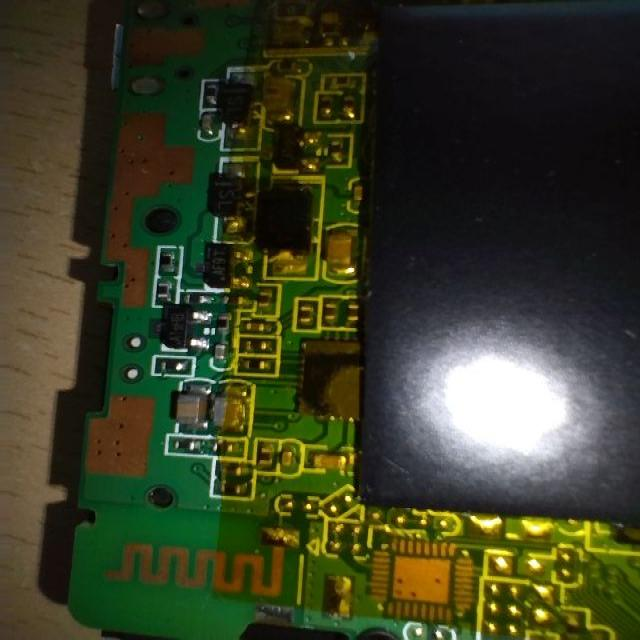capacitor: (207, 371, 262, 444), (260, 60, 304, 138), (168, 371, 208, 445), (320, 216, 359, 286)
resistor: (151, 240, 180, 282), (148, 355, 196, 380), (148, 276, 175, 315), (212, 299, 235, 342)
